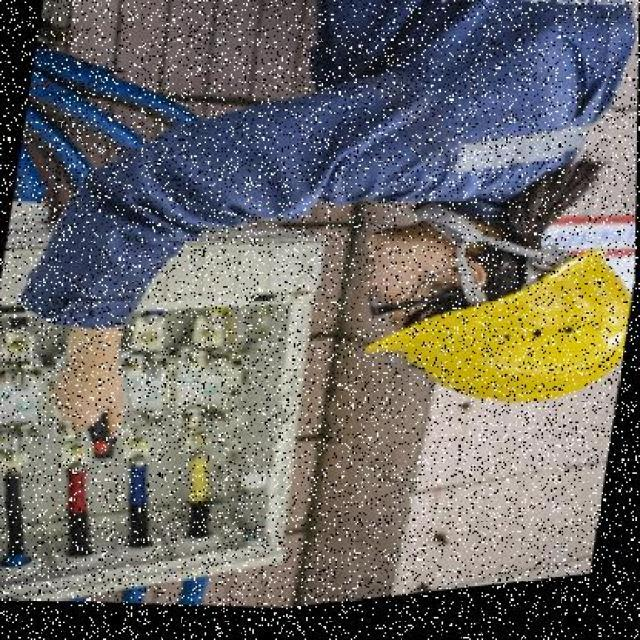helmet: (340, 219, 636, 443)
